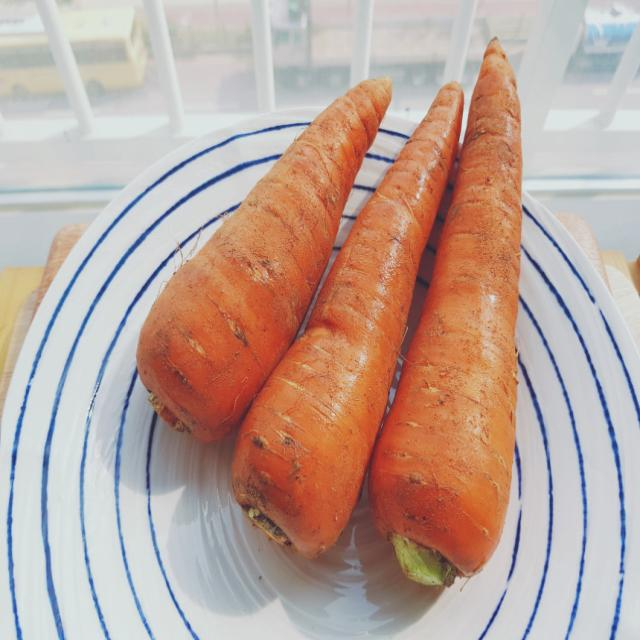carrot: (226, 70, 470, 564), (138, 64, 400, 452), (368, 37, 523, 604)
